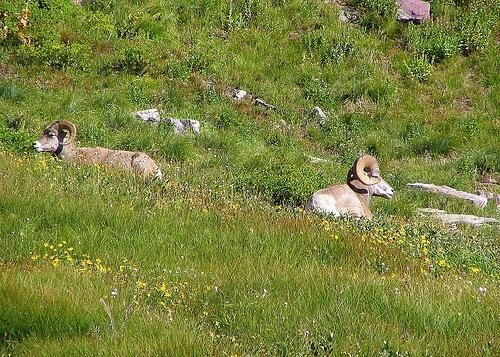sheep: (33, 120, 164, 180), (305, 154, 395, 221)
